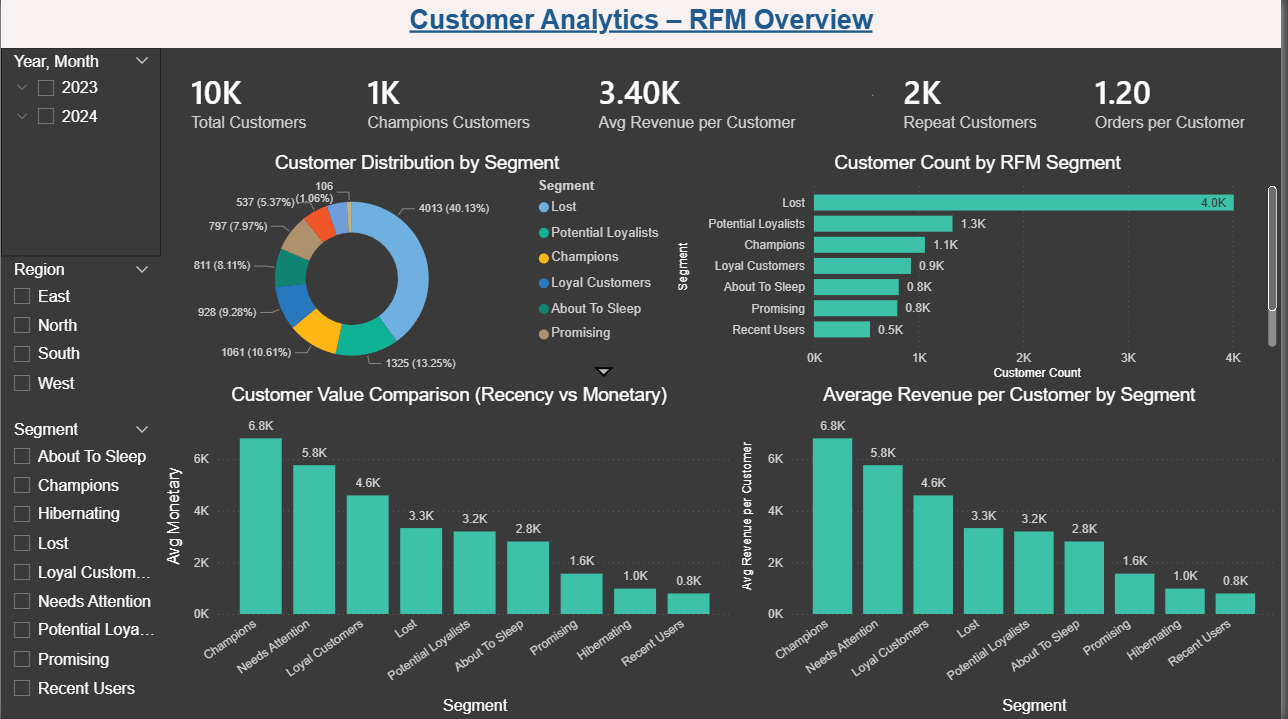

This screenshot's page, from the dashboard's own definition file:
{"tool":"powerbi","page":{"name":"Customer Analytics (RFM)","canvas":[1280,720],"ordinal":1},"visuals":[{"type":"cardVisual","fields":{"Data":["online_shop_2024 fact_sales.Total Customers"]},"box":[160,48,176,104],"z":0},{"type":"cardVisual","fields":{"Data":["online_shop_2024 fact_sales.Champions Customers"]},"box":[336,48,232,104],"z":1000},{"type":"cardVisual","fields":{"Data":["online_shop_2024 fact_sales.Avg Revenue per Customer"]},"box":[568,48,304,104],"z":2000},{"type":"cardVisual","fields":{"Data":["online_shop_2024 fact_sales.Repeat Customers"]},"box":[872,48,192,104],"z":3000},{"type":"donutChart","title":"Customer Distribution by Segment","fields":{"Category":["online_shop_2024 customer_rfm_segments.Segment"],"Y":["online_shop_2024 fact_sales.Customer Count"]},"box":[160,152,512,232],"z":4000},{"type":"clusteredBarChart","title":"Customer Count by RFM Segment","fields":{"Category":["online_shop_2024 customer_rfm_segments.Segment"],"Y":["online_shop_2024 fact_sales.Customer Count"]},"box":[672,152,608,232],"z":5000},{"type":"clusteredColumnChart","title":"Average Revenue per Customer by Segment","fields":{"Category":["online_shop_2024 customer_rfm_segments.Segment"],"Y":["online_shop_2024 fact_sales.Avg Revenue per Customer (by Segment)"]},"box":[736,384,544,336],"z":6000},{"type":"slicer","fields":{"Values":["online_shop_2024 customer_region.region"]},"box":[0,256,160,168],"z":7000},{"type":"slicer","fields":{"Values":["online_shop_2024 dim_date.year","online_shop_2024 dim_date.month"]},"box":[0,48,160,208],"z":8000},{"type":"slicer","fields":{"Values":["online_shop_2024 customer_rfm_segments.Segment"]},"box":[0,416,160,304],"z":9000},{"type":"clusteredColumnChart","title":"Customer Value Comparison (Recency vs Monetary)","fields":{"Category":["online_shop_2024 customer_rfm_segments.Segment"],"Y":["online_shop_2024 customer_rfm_segments.Avg Monetary"]},"box":[160,384,576,336],"z":10000},{"type":"cardVisual","fields":{"Data":["online_shop_2024 customer_rfm_segments.Avg Frequency"]},"box":[1064,48,216,104],"z":11000},{"type":"textbox","box":[0,0,1280,48],"z":13000}]}

Visuals, with their boxes on the page's 1280x720 design canvas (x1, y1, x2, y2). These are canvas units, not pixel positions in the 1288x719 screenshot, which may show the page scaled, cropped or inside an application window:
cardVisual - online_shop_2024 fact_sales.Total Customers: left=160, top=48, right=336, bottom=152
cardVisual - online_shop_2024 fact_sales.Champions Customers: left=336, top=48, right=568, bottom=152
cardVisual - online_shop_2024 fact_sales.Avg Revenue per Customer: left=568, top=48, right=872, bottom=152
cardVisual - online_shop_2024 fact_sales.Repeat Customers: left=872, top=48, right=1064, bottom=152
"Customer Distribution by Segment" donutChart: left=160, top=152, right=672, bottom=384
"Customer Count by RFM Segment" clusteredBarChart: left=672, top=152, right=1280, bottom=384
"Average Revenue per Customer by Segment" clusteredColumnChart: left=736, top=384, right=1280, bottom=720
slicer - online_shop_2024 customer_region.region: left=0, top=256, right=160, bottom=424
slicer - online_shop_2024 dim_date.year x online_shop_2024 dim_date.month: left=0, top=48, right=160, bottom=256
slicer - online_shop_2024 customer_rfm_segments.Segment: left=0, top=416, right=160, bottom=720
"Customer Value Comparison (Recency vs Monetary)" clusteredColumnChart: left=160, top=384, right=736, bottom=720
cardVisual - online_shop_2024 customer_rfm_segments.Avg Frequency: left=1064, top=48, right=1280, bottom=152
textbox: left=0, top=0, right=1280, bottom=48
